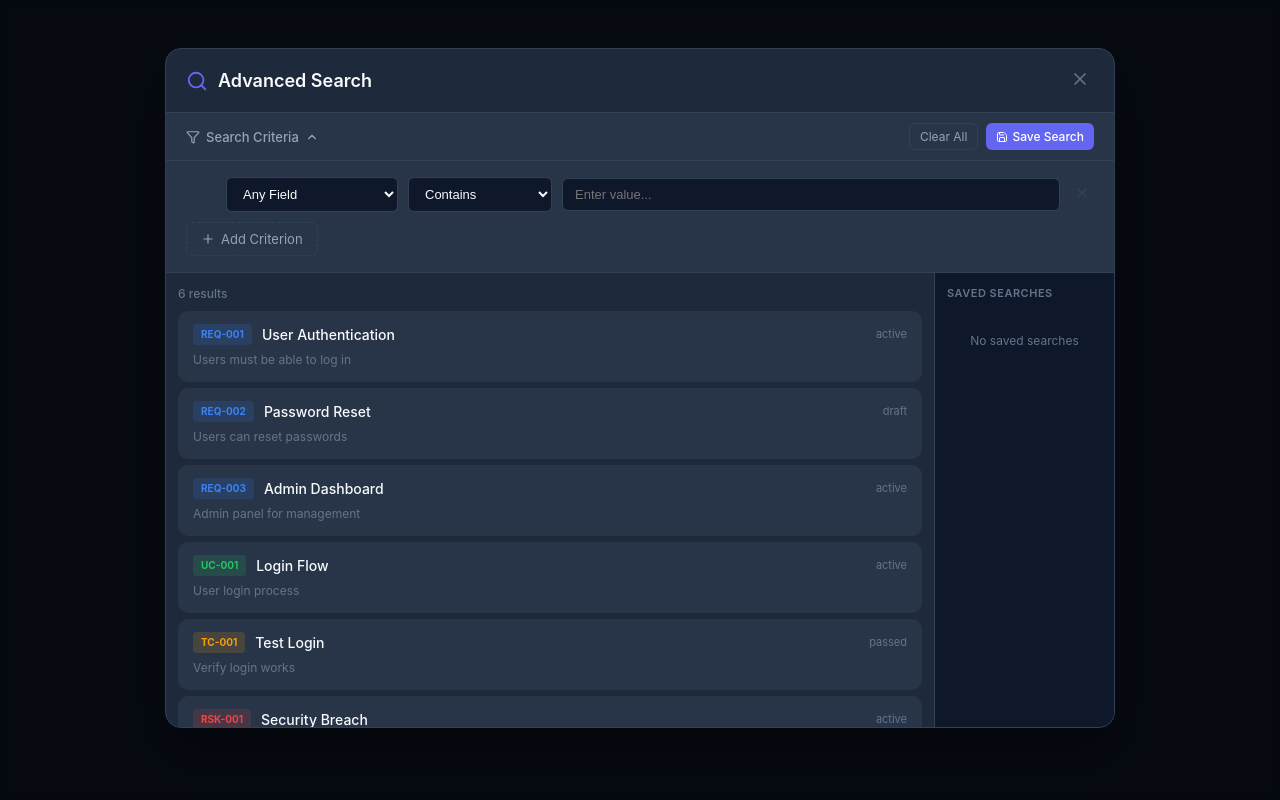
Test case: AdvancedSearchModal › removes a criterion
The width and height of the screenshot is (1280, 800).
Add second criterion
Click the button "Add Criterion" at (252, 239), box [186,222,318,256]
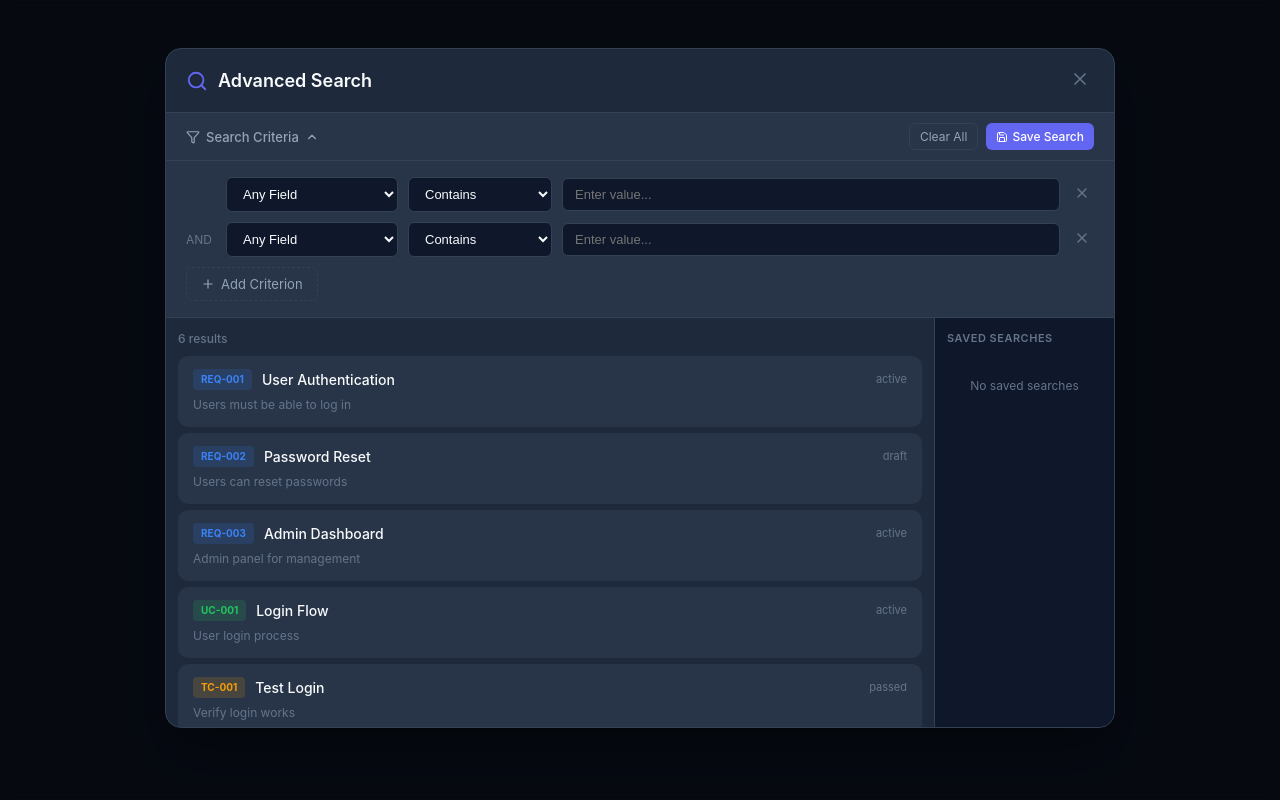
Click the button without text in the row of "AND" at (1082, 240), box [1070,226,1094,253]
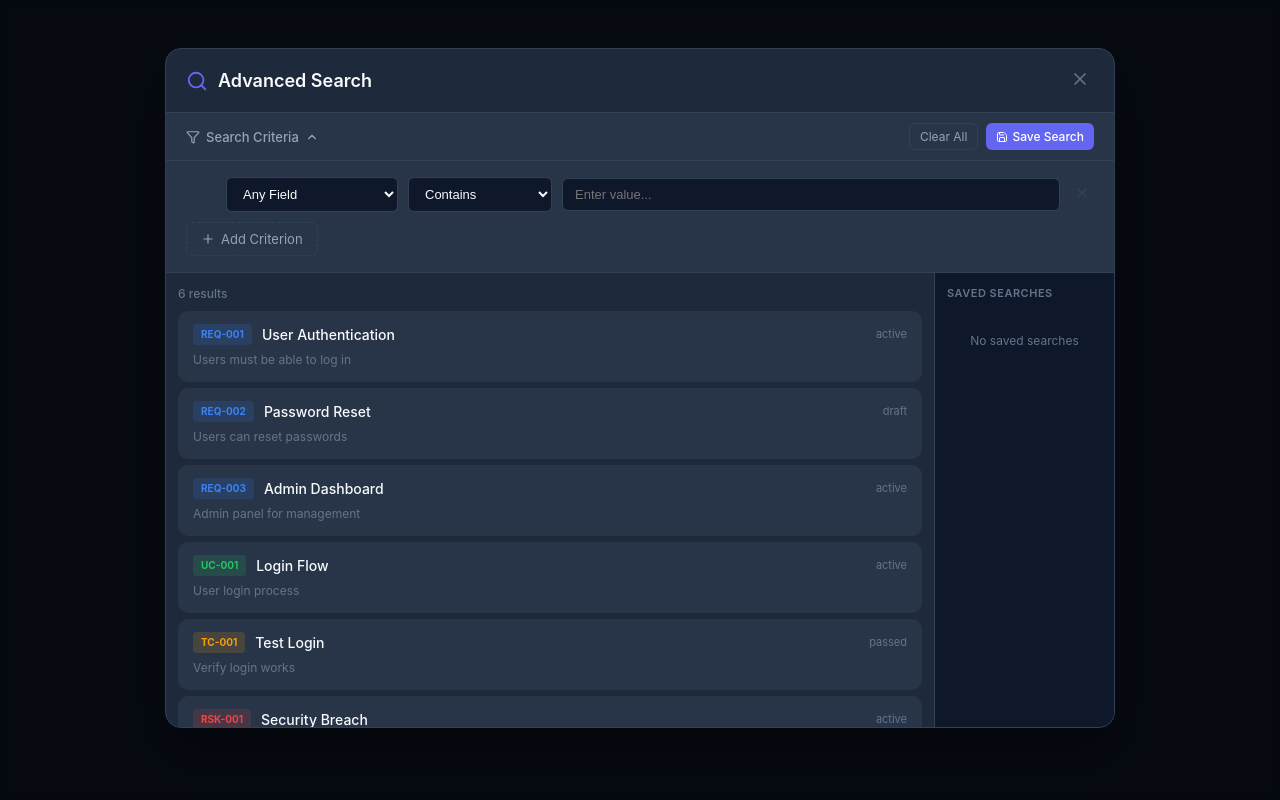
Now the number of dropdowns is 2, box [226,177,398,212]; [408,177,552,212]
